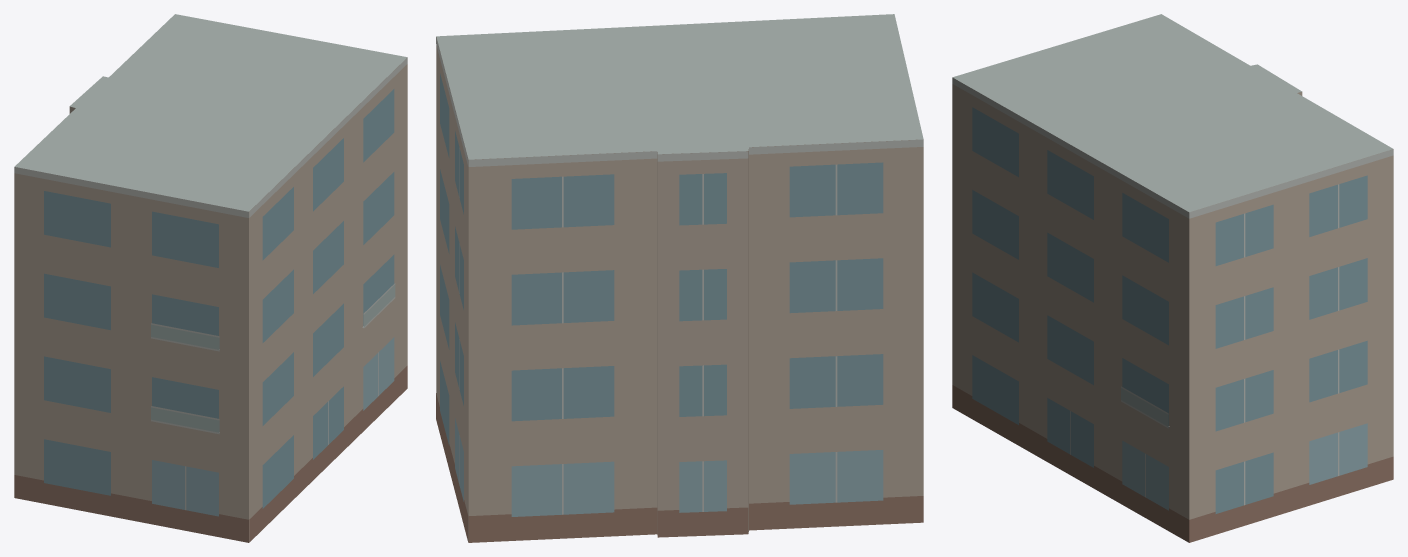
File: survey-upis-32628922.glb
The picture shows the model from 3 angles, left to right: view 1: azimuth 30°, elevation 25°; view 2: azimuth 150°, elevation 25°; view 3: azimuth 270°, elevation 25°; orthographic projection. The views are drawn at different scales.
Visible parts, largest first — view 1: survey-upis-32628922.tmp; view 2: survey-upis-32628922.tmp; view 3: survey-upis-32628922.tmp.
Boxes of the visible parts, x1,y1,x2,y2 form: survey-upis-32628922.tmp: (14,14,407,542); survey-upis-32628922.tmp: (436,14,923,542); survey-upis-32628922.tmp: (952,14,1393,542).
Size of the model in its own units: 16.23 by 12.6 by 15.26.
